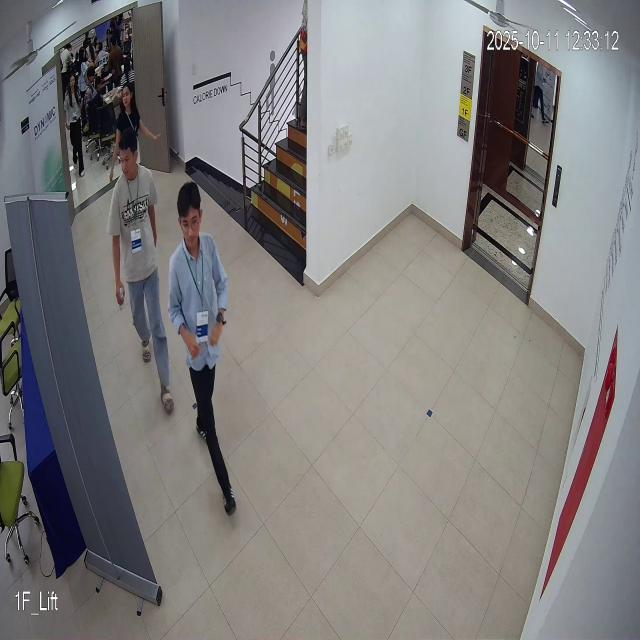face: (174, 178, 209, 257), (115, 118, 142, 186)
